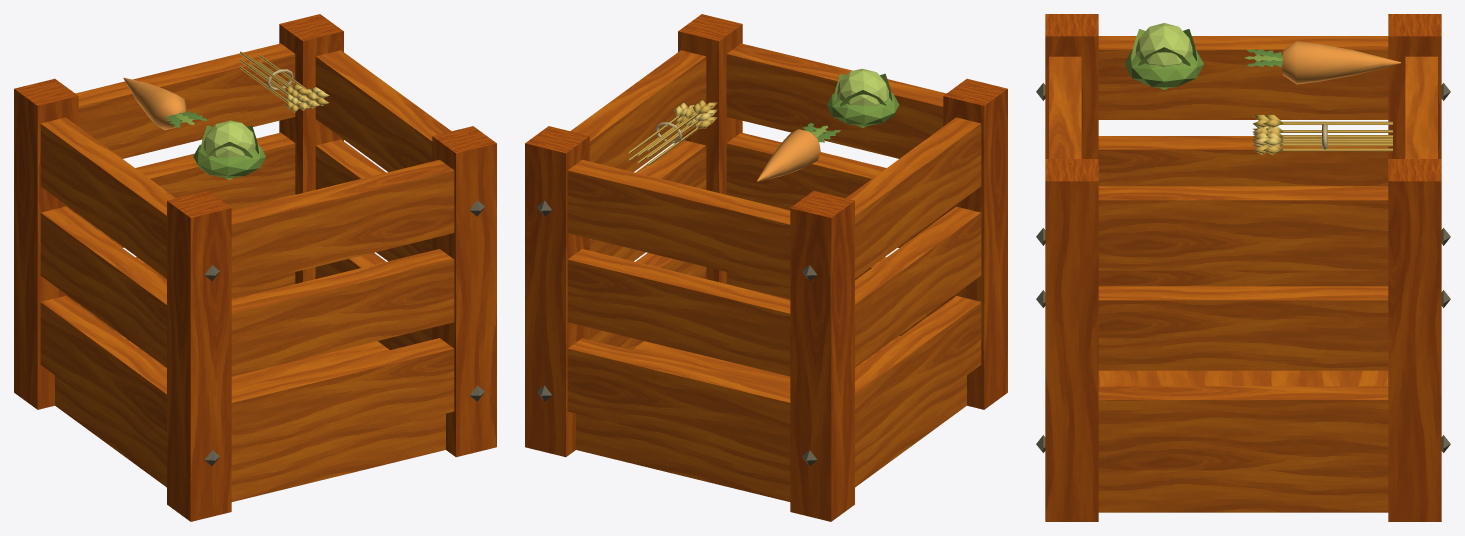
The model's file is farm-collection-box-7.gltf.
3 renders of one model, left to right at view 1: azimuth 30°, elevation 25°; view 2: azimuth 150°, elevation 25°; view 3: azimuth 270°, elevation 25°, orthographic. The views are drawn at different scales.
Visible parts, largest first — view 1: farm-collection-box-7; view 2: farm-collection-box-7; view 3: farm-collection-box-7.
Part boxes in pixels (x1,y1,x2,y2): farm-collection-box-7: [14, 14, 496, 521]; farm-collection-box-7: [525, 14, 1007, 521]; farm-collection-box-7: [1036, 14, 1450, 521].
Bounding box in the file's own units: 0.8002 × 0.8448 × 0.8382.
Materials: 2 (1 with a texture image).
